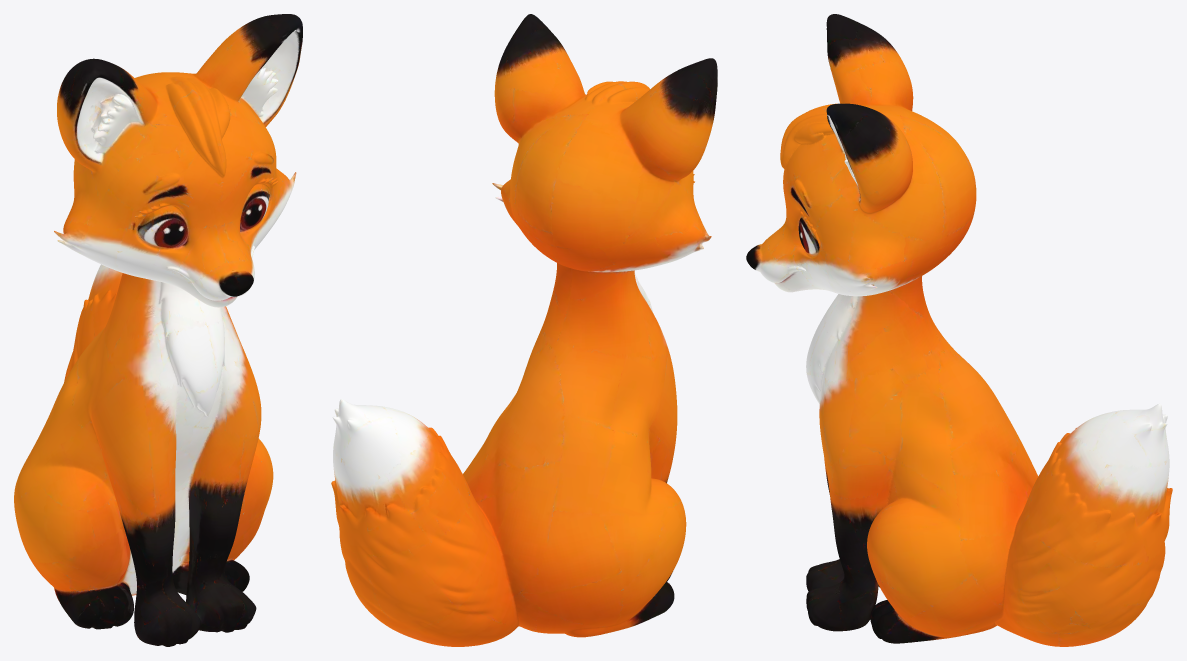
File: cartoon-fox-figurine.glb
3 views of the same model, side by side, from view 1: azimuth 30°, elevation 25°; view 2: azimuth 150°, elevation 25°; view 3: azimuth 270°, elevation 25° (orthographic). The views are drawn at different scales.
Size of the model in its own units: 1.02 by 2 by 1.41.
Materials: 1 (1 with a texture image).
